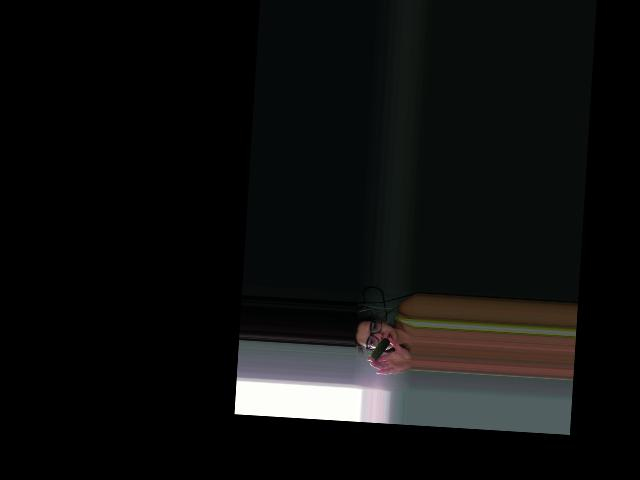cucumber: (369, 336, 390, 360)
